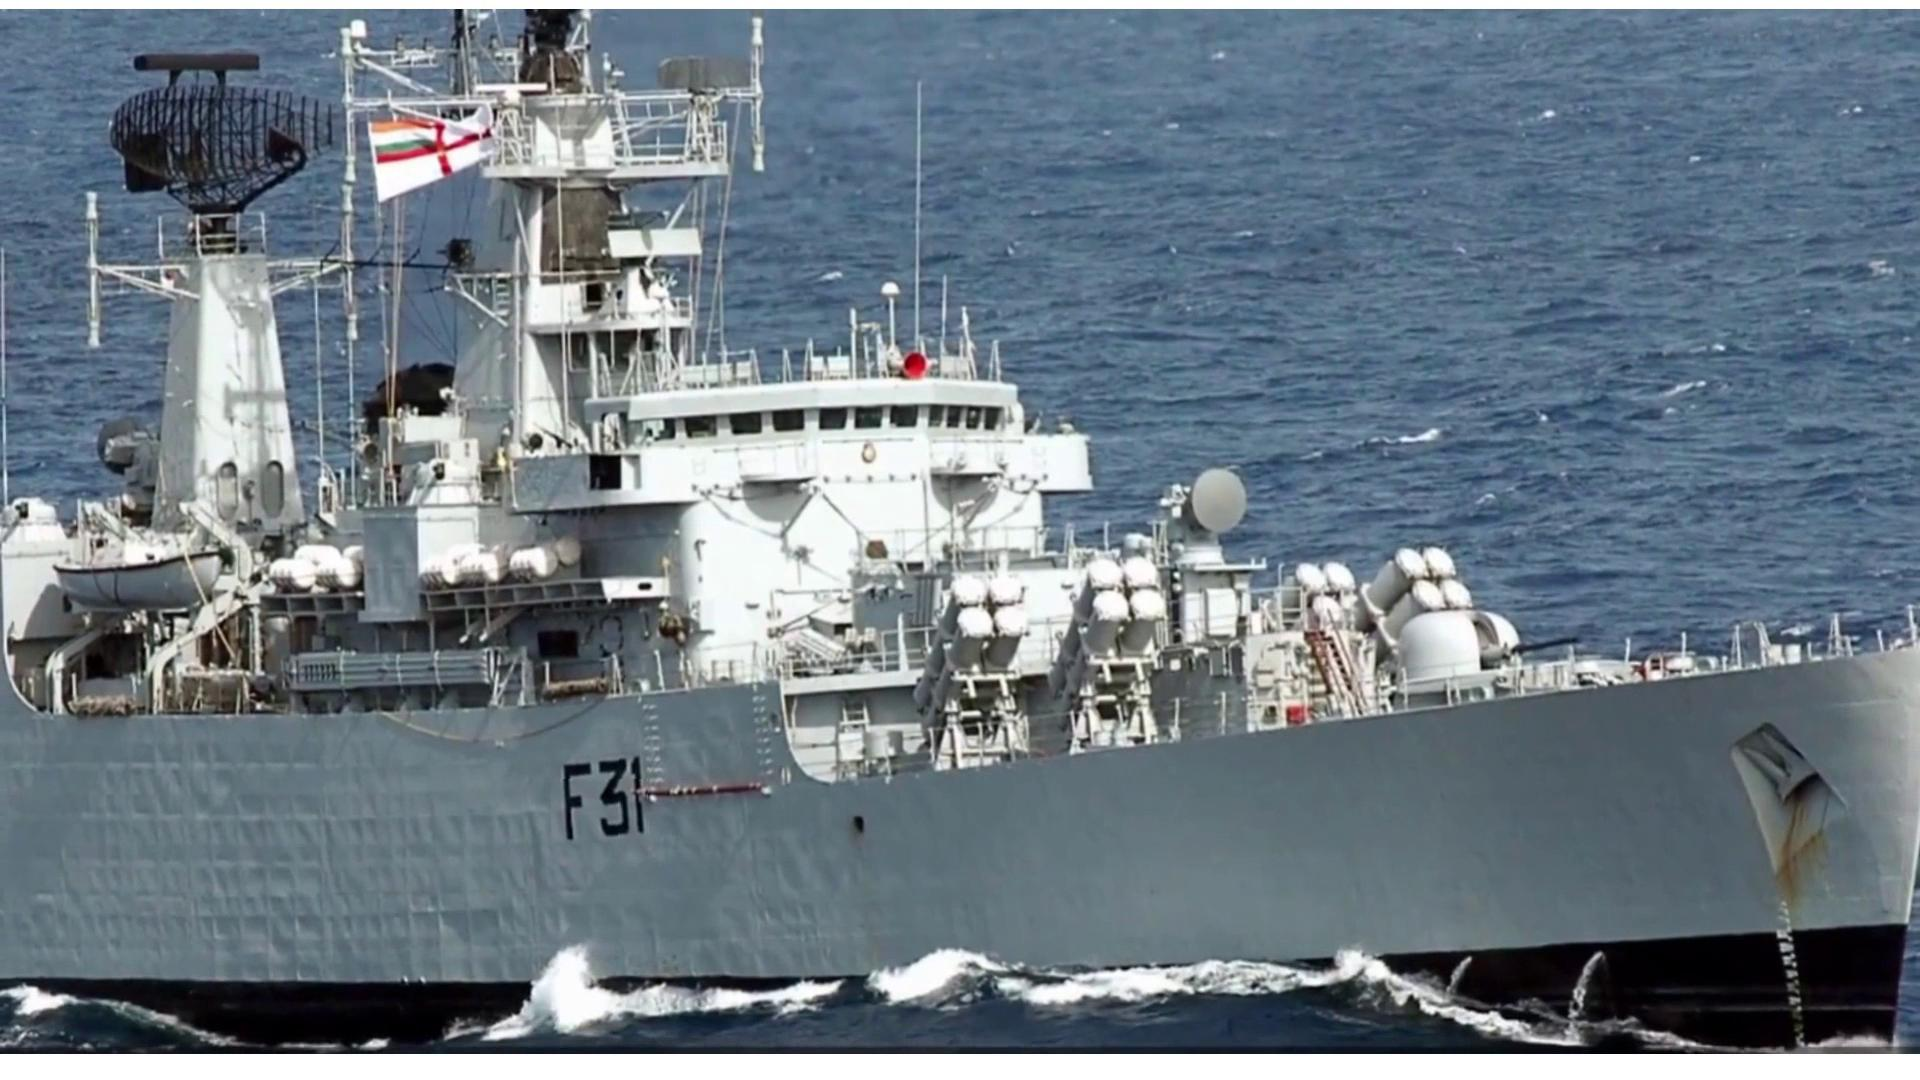OCR: (551, 745, 650, 845)
